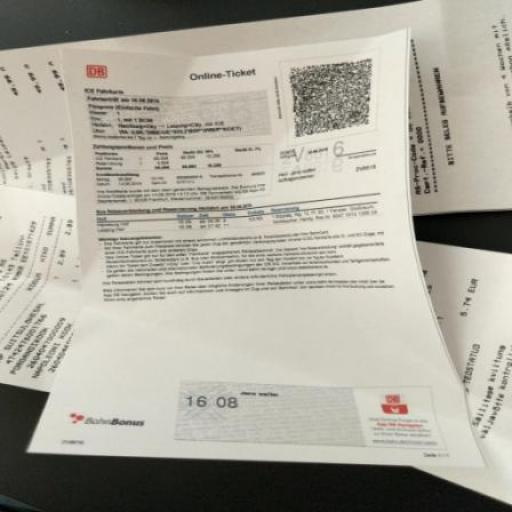paper: (20, 21, 492, 512)
